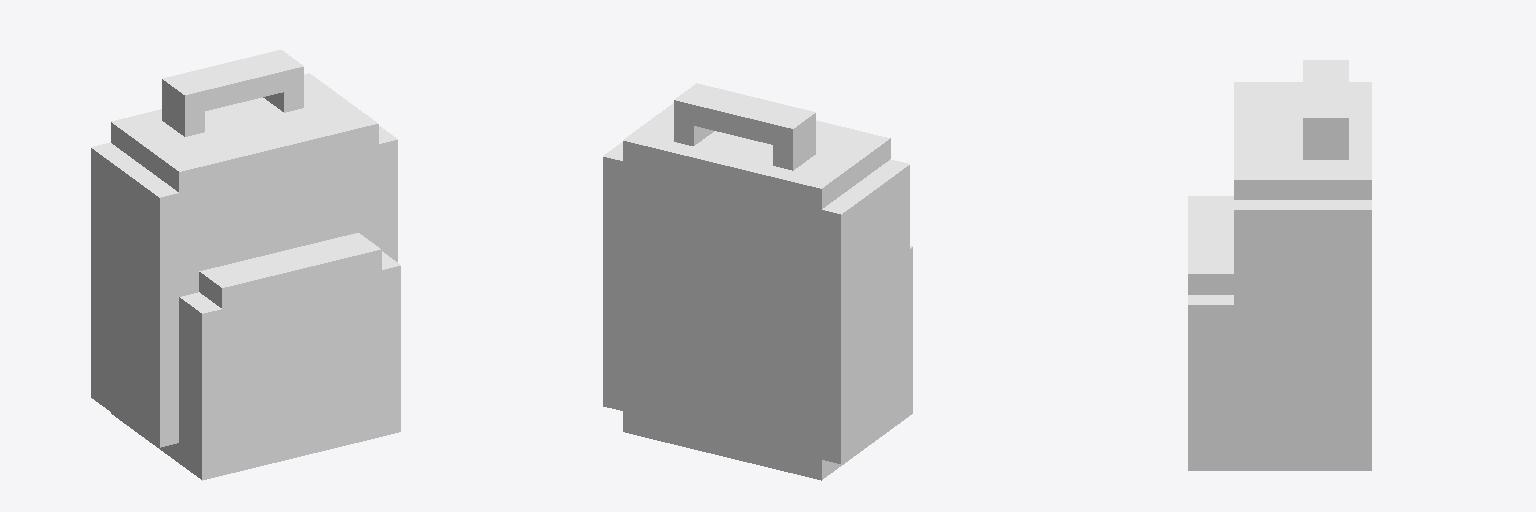
Rendered from backpack.vox.obj.
The picture shows the model from 3 angles: view 1: azimuth 30°, elevation 25°; view 2: azimuth 150°, elevation 25°; view 3: azimuth 270°, elevation 25°; orthographic projection.
Visible parts, largest first — view 1: object 1; view 2: object 1; view 3: object 1.
Boxes of the visible parts, box(x1,y1,x2,y2) form: object 1: box(91, 50, 400, 480); object 1: box(603, 83, 912, 480); object 1: box(1188, 60, 1371, 470).
Bounding box in the file's own units: 1.2 × 1.6 × 0.8.